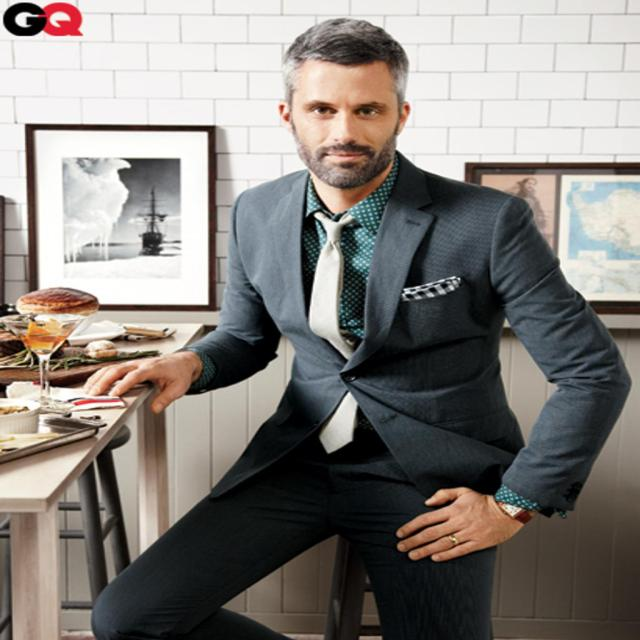Face: (291, 57, 406, 194)
